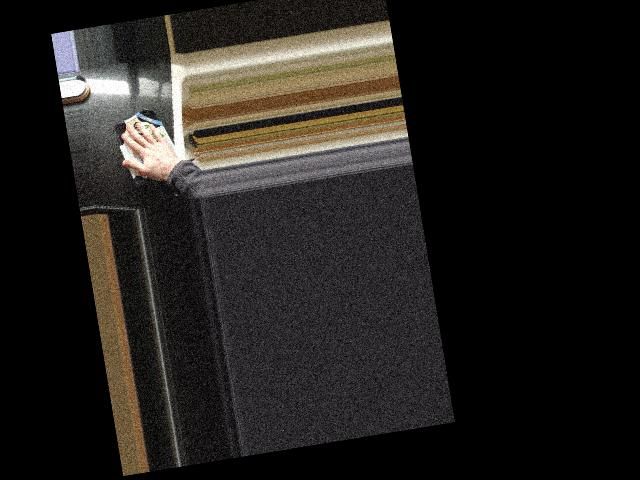cheese: (109, 103, 186, 189)
